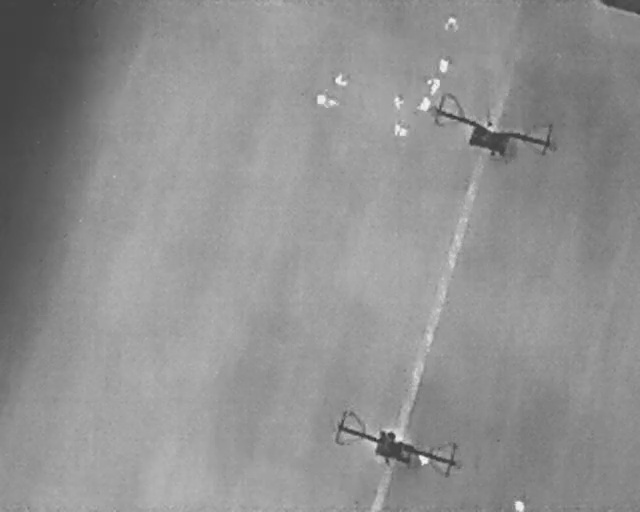Person: (422, 75, 442, 98), (314, 92, 339, 108), (416, 94, 433, 114), (443, 16, 460, 32), (334, 72, 350, 87), (394, 121, 408, 137), (438, 57, 451, 73), (393, 94, 405, 111), (418, 453, 431, 467), (513, 497, 525, 511)
